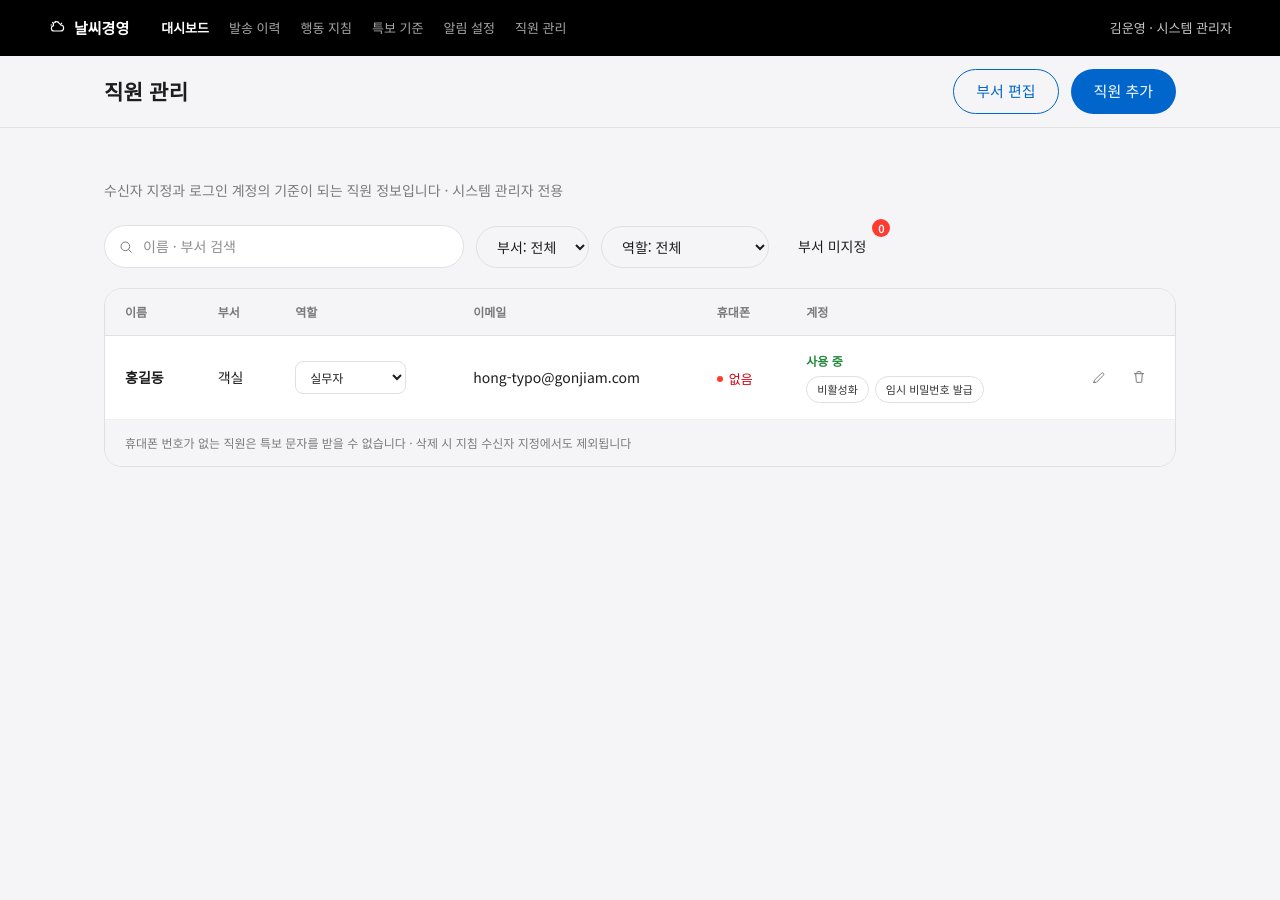
Test: Employees 계정 관리 › 역할 변경이 실패하면 select가 서버의 실제 값(원래 역할)으로 되돌아간다
The width and height of the screenshot is (1280, 900).
Select "부서장" in the dropdown named "홍길동 역할" at (351, 377), box [295, 361, 406, 394]
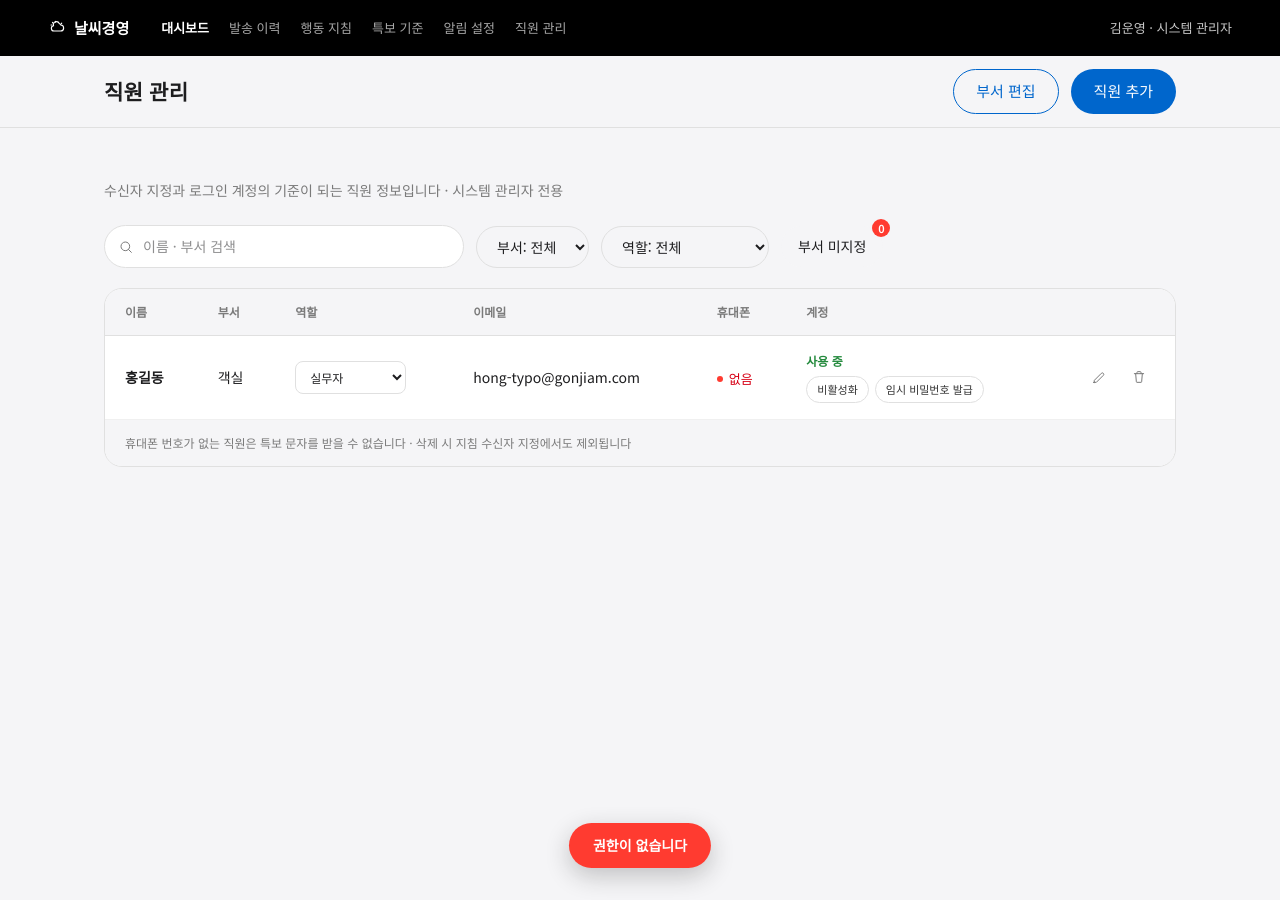
Expected: the text "권한이 없습니다" is shown, [569, 823, 711, 868]
